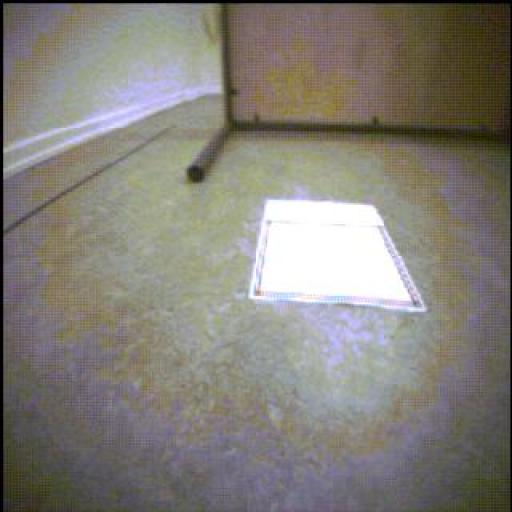Pad: (251, 201, 427, 311)
